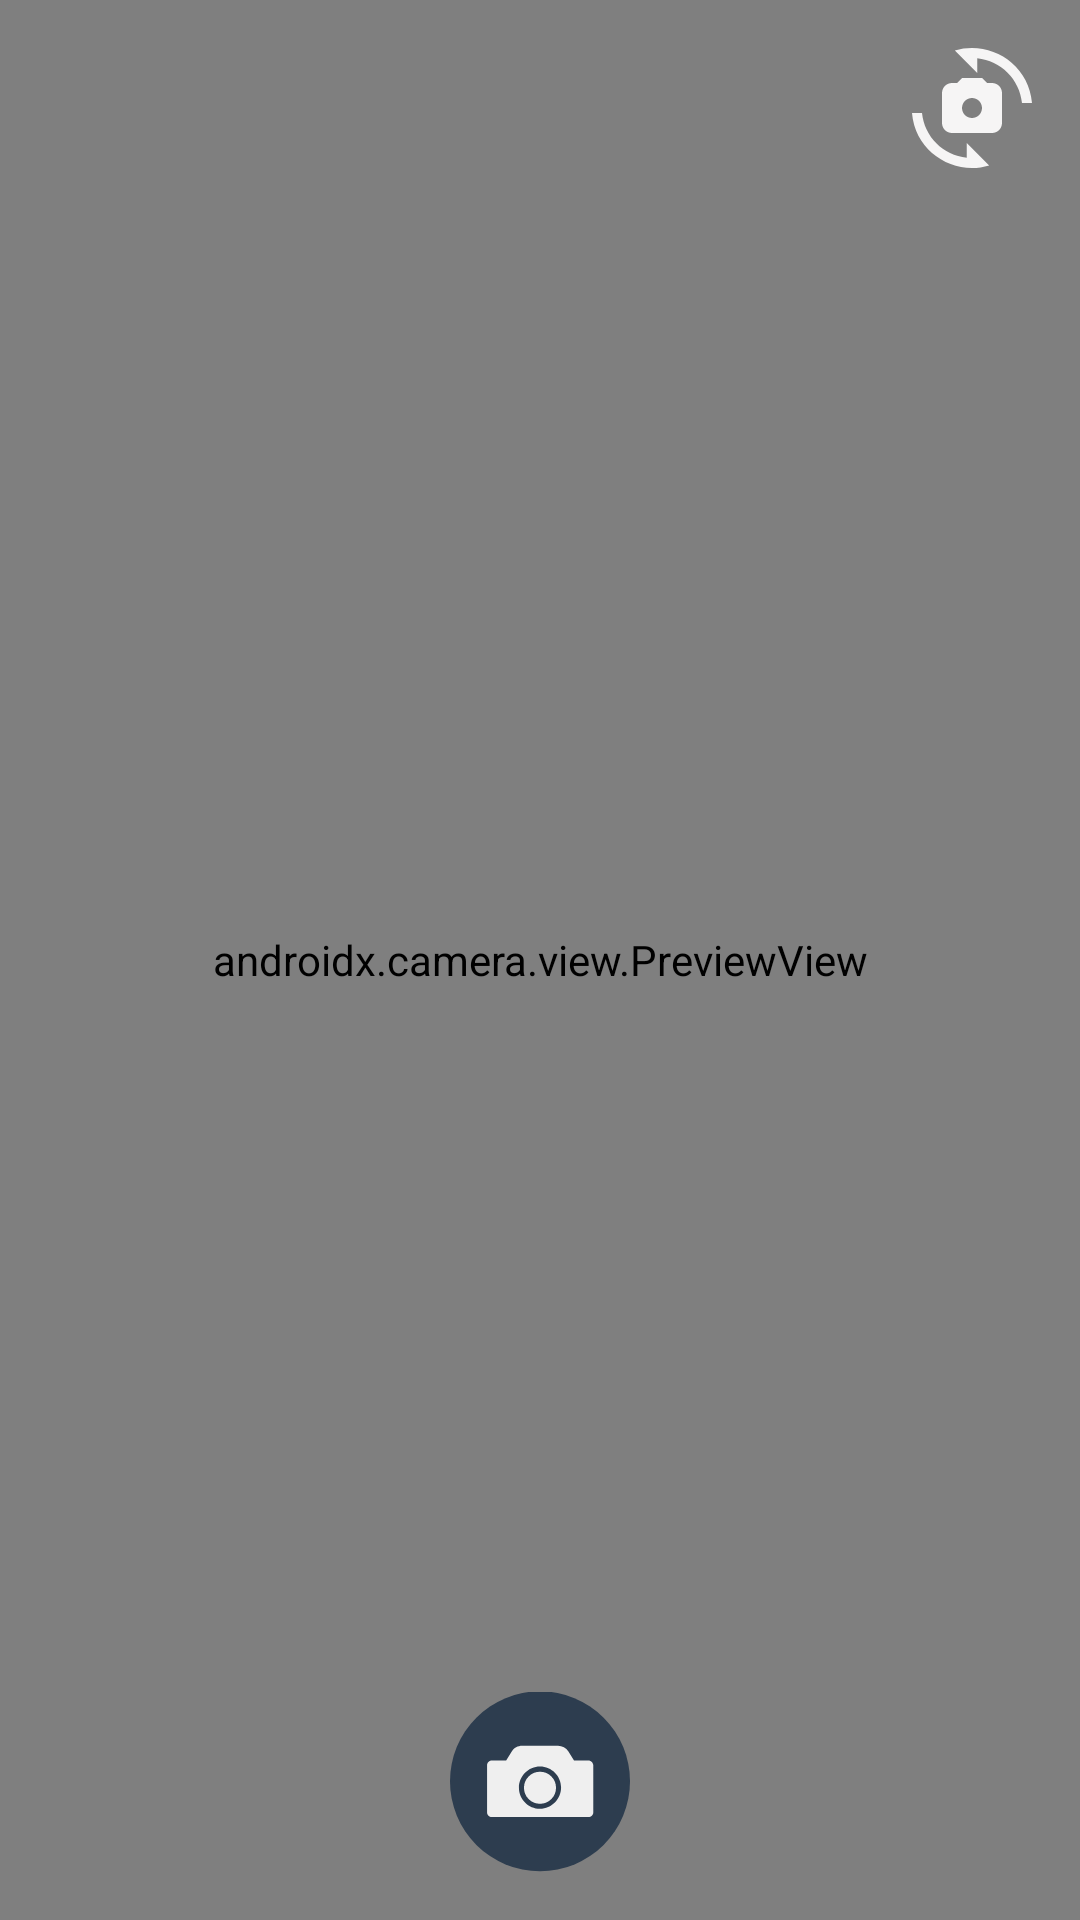

Icons on this 1080x1920 Android screen, each with its box as (x1=x1, y1=y1, x2=x2, y2=y2):
cameraswitch: (x1=912, y1=48, x2=1032, y2=168)
Take Gambar: (x1=450, y1=1692, x2=630, y2=1871)
